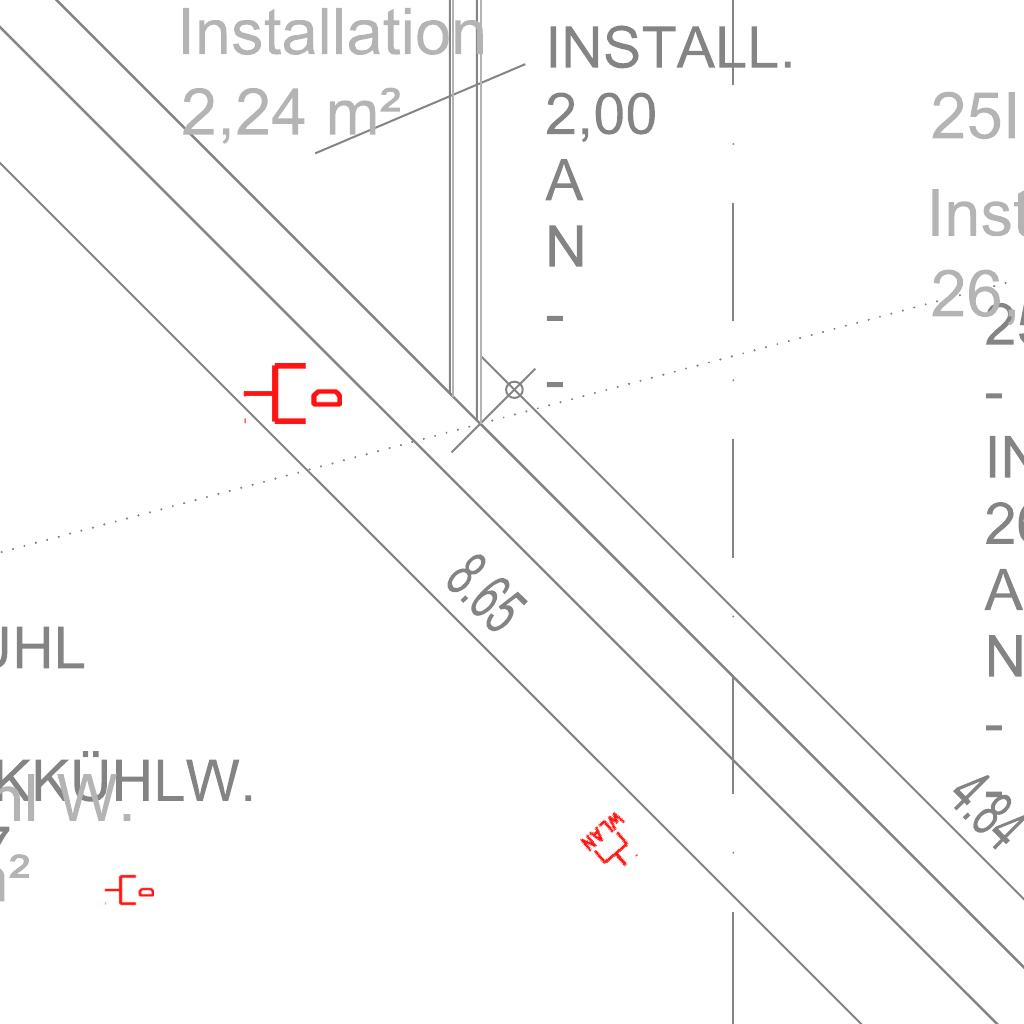Datenanschluss_einfach: (242, 359, 342, 428), (104, 873, 154, 907)
WLAN: (577, 807, 651, 881)
